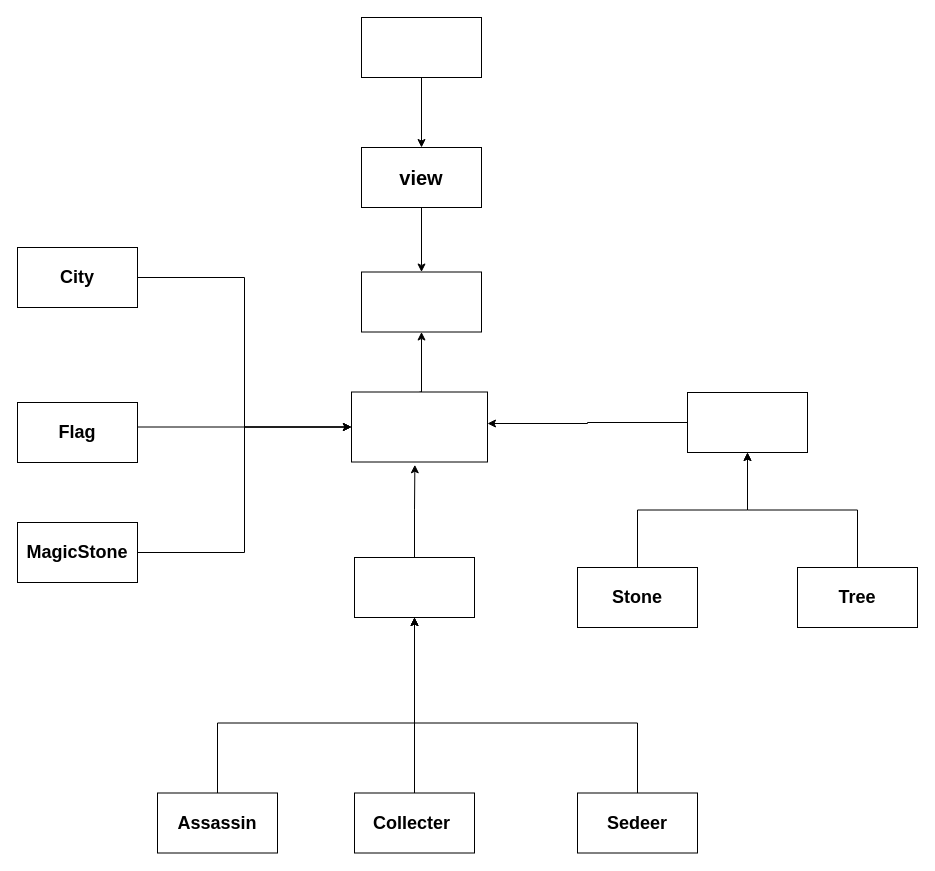
The diagram is 935 pixels wide and 871 high, and some of its shapes have lost their labels. Here are the shapes that lost their labels. From the top down, the centre of each, then its label:
At point (421, 47): "Main".
At point (421, 301): "Controller".
At point (419, 426): "<abstract> GameElement".
At point (747, 422): "<abstract> Resource".
At point (414, 587): "<abstract> Unit".
